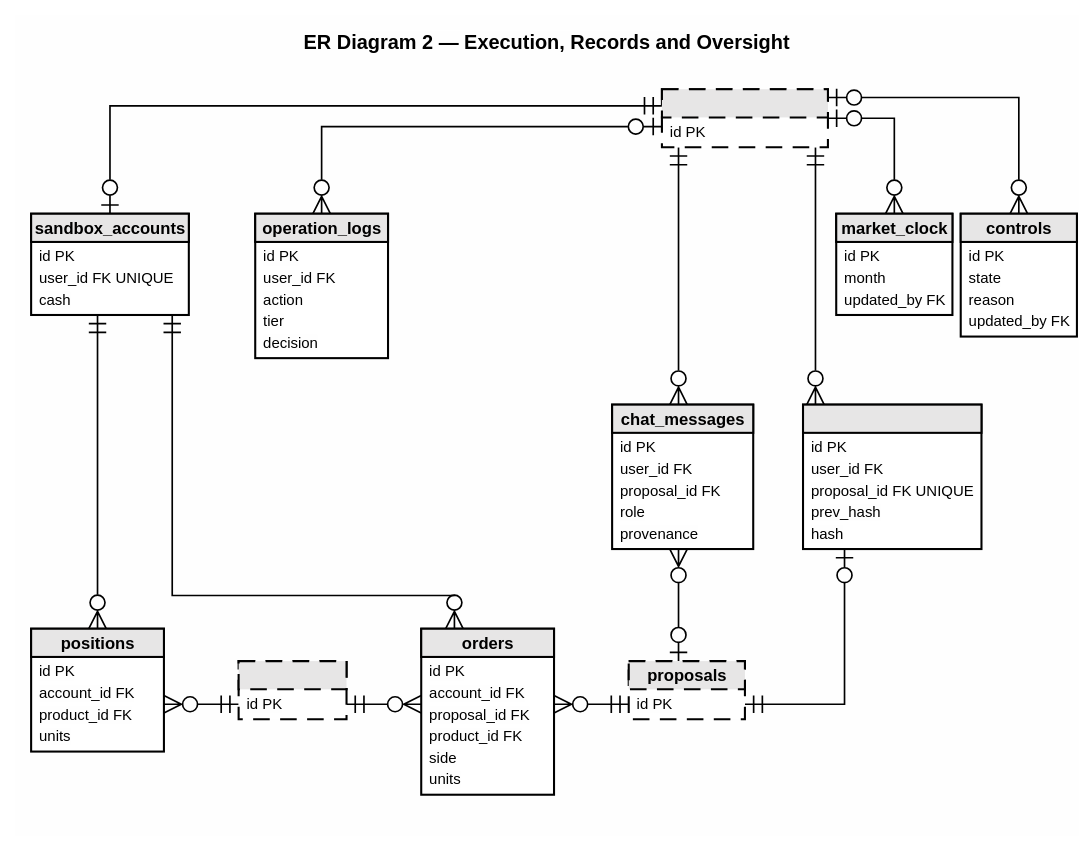
Image size: 1092x850. Some labels were removed from this diagram. The shapes that lost their labels are listed below. From the top down, each one's centre as x and y in pixels, then its label:
(745,103): users
(892,418): advice_records
(292,675): products
